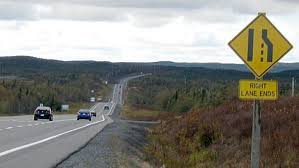laneEnds: (226, 13, 295, 79)
